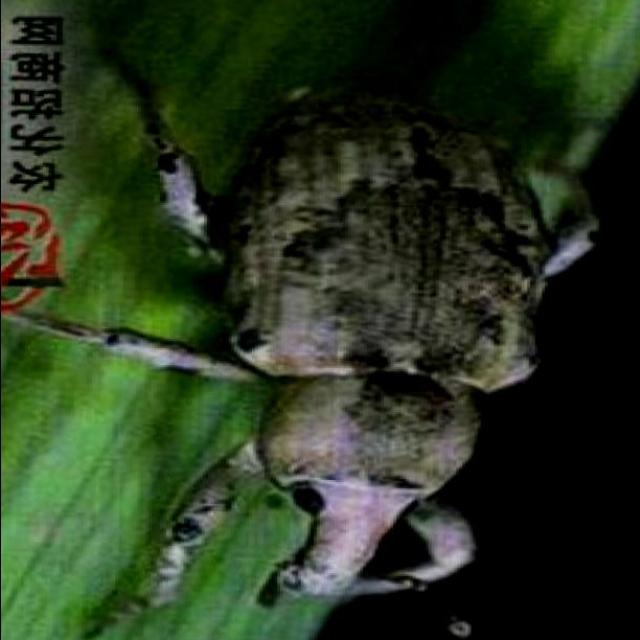ricebug: (50, 98, 596, 619)
